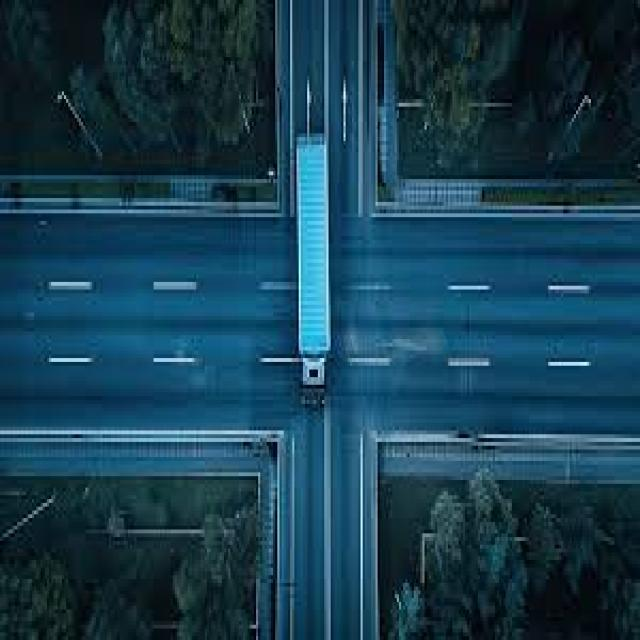truck: (297, 136, 332, 408)
